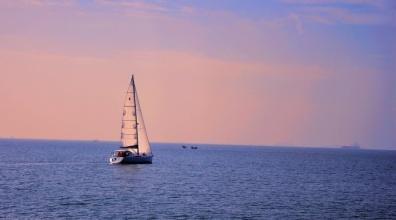fanchuan: (106, 74, 159, 163)
